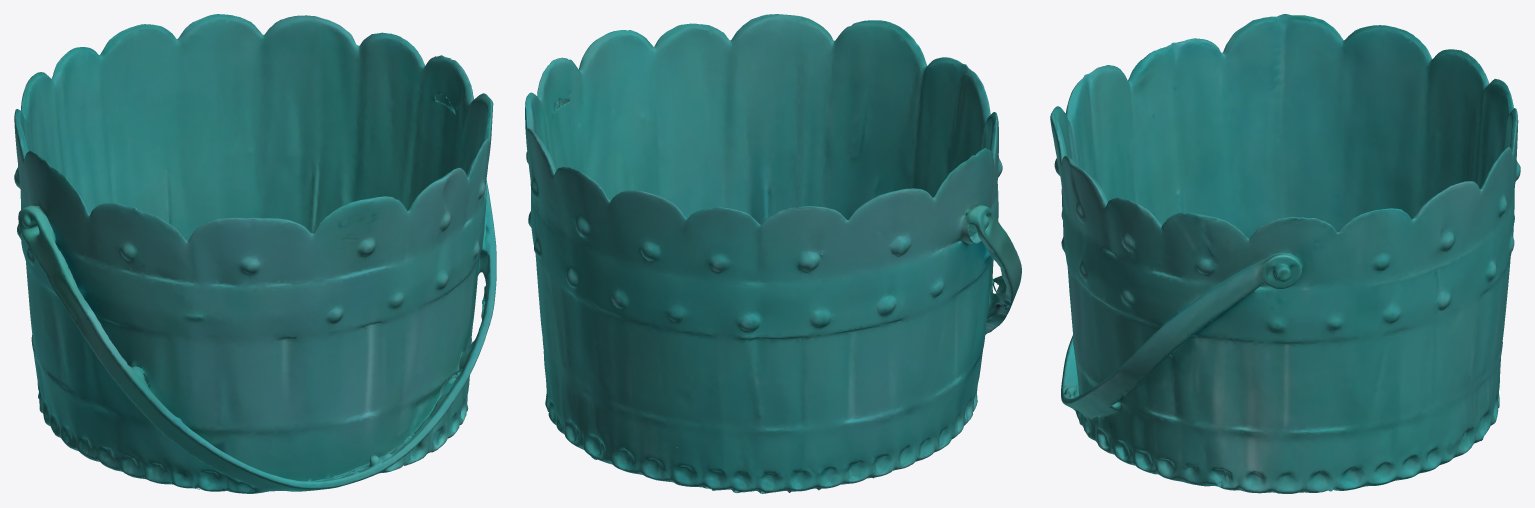
File: Spritz_Easter_Basket_Plastic_Teal.glb
3 views of the same model, side by side, from view 1: azimuth 30°, elevation 25°; view 2: azimuth 150°, elevation 25°; view 3: azimuth 270°, elevation 25° (orthographic).
Parts seen in each view (by area): view 1: geometry_0; view 2: geometry_0; view 3: geometry_0.
Part boxes in pixels (bbox=[...]): geometry_0: bbox=[14, 14, 496, 493]; geometry_0: bbox=[525, 14, 1021, 493]; geometry_0: bbox=[1050, 14, 1520, 493].
Size of the model in its own units: 1 by 0.6369 by 0.9246.
1 material, 1 textured.
